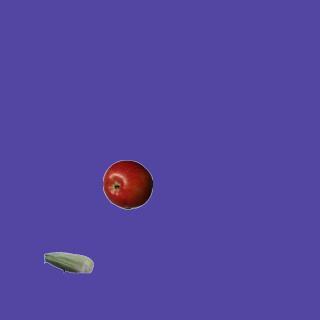Apple Braeburn: (102, 159, 152, 209)
Corn Husk: (43, 237, 93, 287)
